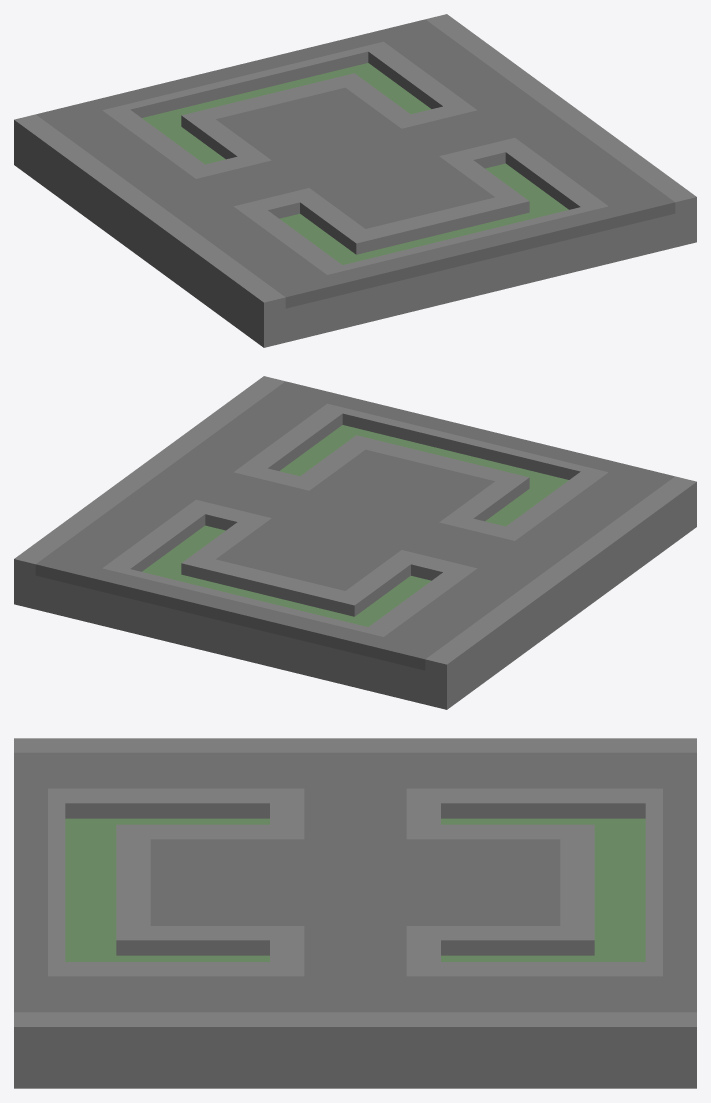
The model's file is SHP2.vox.obj.
The picture shows the model from 3 angles, top to bottom: view 1: azimuth 30°, elevation 25°; view 2: azimuth 150°, elevation 25°; view 3: azimuth 270°, elevation 25°; orthographic projection. The views are drawn at different scales.
Bounding box in the file's own units: 4 × 0.4 × 4.
1 material, 1 textured.
